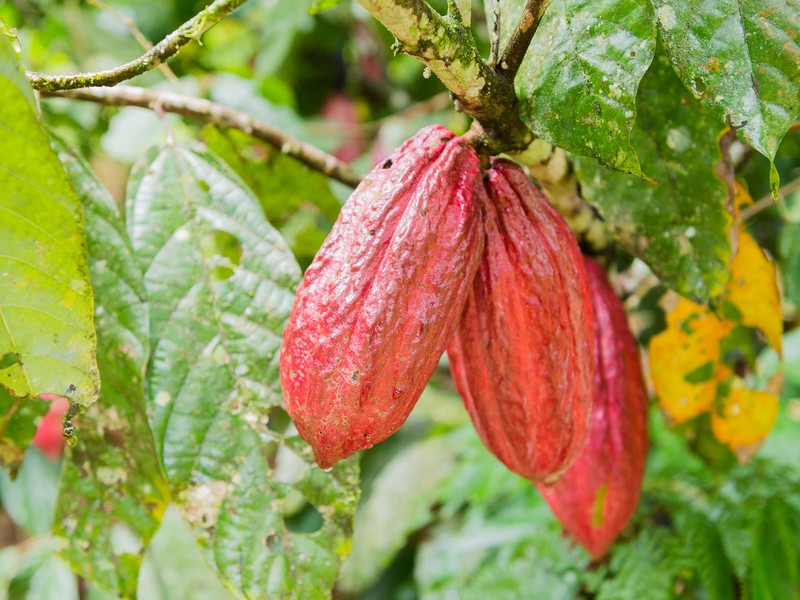Cacaopod: (277, 120, 487, 473)
